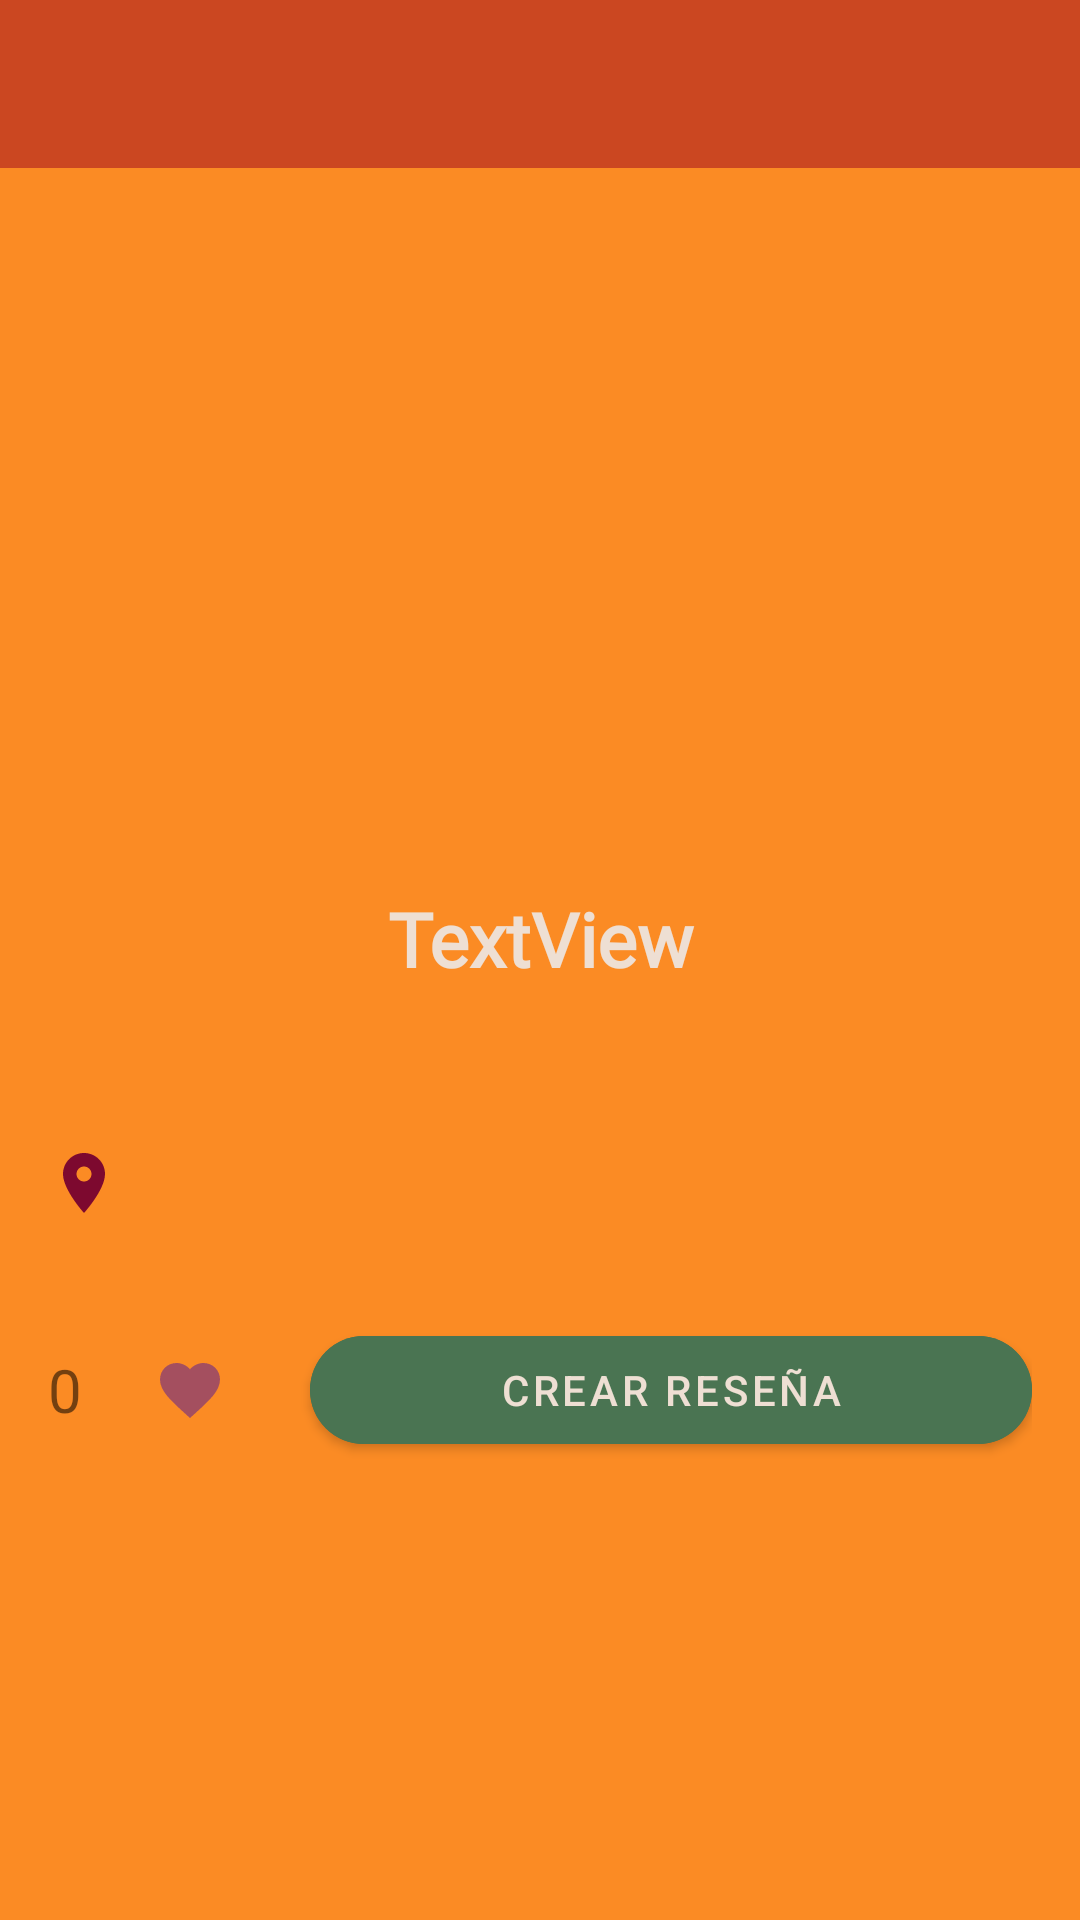

Where to tap for icons on this 1080px x 1920px app screen, as (x,y):
favorite: (190,1390)
location on: (84,1183)
